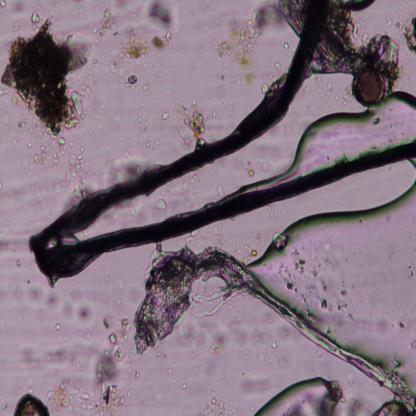Air bubble: (251, 168, 416, 271), (285, 89, 416, 180), (256, 373, 341, 416)
Background material: (0, 20, 91, 144), (316, 0, 382, 76), (99, 268, 133, 360), (24, 282, 94, 326), (21, 338, 98, 373), (217, 12, 259, 68), (216, 323, 300, 346), (323, 312, 392, 338), (48, 378, 94, 416), (378, 31, 402, 91), (120, 26, 152, 66), (64, 148, 88, 199), (93, 386, 132, 416), (280, 0, 310, 36), (236, 371, 274, 399), (143, 3, 180, 31), (178, 319, 209, 351), (94, 6, 117, 46), (30, 141, 61, 170), (0, 179, 35, 203), (202, 390, 234, 416), (255, 0, 281, 31), (186, 228, 221, 250), (377, 398, 415, 416), (255, 340, 281, 366), (72, 83, 92, 116), (232, 238, 259, 262), (278, 264, 298, 293), (106, 159, 140, 176), (402, 13, 416, 53), (1, 235, 29, 254), (270, 229, 291, 253), (150, 30, 172, 52), (100, 360, 119, 385), (388, 354, 406, 380), (318, 74, 334, 102), (190, 110, 206, 138), (302, 306, 323, 326), (322, 239, 343, 258), (211, 80, 225, 108), (292, 247, 305, 275), (303, 286, 321, 306), (210, 335, 226, 357), (178, 122, 194, 144), (125, 362, 140, 384), (124, 72, 140, 90), (239, 158, 254, 177), (177, 105, 191, 125), (104, 60, 121, 75), (320, 295, 334, 312), (322, 256, 338, 270), (28, 8, 41, 24), (29, 117, 40, 135), (264, 209, 278, 223), (186, 172, 198, 188), (15, 0, 26, 17), (160, 107, 171, 124), (147, 139, 161, 152), (342, 87, 352, 105), (244, 71, 256, 86), (114, 3, 130, 14), (405, 263, 415, 280), (155, 197, 168, 210), (194, 139, 209, 149), (56, 134, 68, 146), (216, 184, 226, 198), (230, 75, 242, 86), (82, 65, 93, 77), (17, 114, 27, 127), (109, 210, 120, 221), (260, 82, 270, 94), (127, 208, 139, 218), (274, 58, 282, 72), (337, 302, 348, 312), (138, 133, 147, 145), (311, 264, 320, 276), (0, 85, 8, 98), (262, 259, 272, 269), (325, 326, 335, 336), (191, 96, 198, 110), (280, 40, 289, 50), (13, 22, 22, 31), (123, 149, 131, 159), (320, 277, 326, 289), (386, 15, 392, 27), (346, 313, 354, 322), (314, 349, 323, 357), (167, 366, 174, 376), (340, 289, 348, 297), (16, 258, 24, 266), (398, 321, 405, 330), (212, 108, 218, 118), (0, 402, 8, 409), (181, 380, 186, 391), (94, 57, 99, 68), (13, 138, 19, 147), (56, 322, 61, 332), (0, 0, 6, 8), (145, 374, 151, 382), (26, 143, 34, 149), (358, 217, 364, 224), (130, 11, 136, 18), (138, 115, 142, 125), (220, 72, 225, 80), (142, 84, 148, 90), (150, 368, 155, 374), (180, 87, 184, 94), (238, 316, 242, 322), (235, 307, 239, 312), (156, 352, 160, 357), (141, 103, 145, 107), (107, 147, 110, 152), (229, 306, 232, 310)
Cellulose filter fibre: (139, 246, 416, 412)
Cotton: (28, 0, 416, 280)
Diatom: (354, 68, 386, 104), (13, 391, 52, 416)
